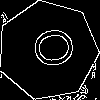O: (23, 25, 76, 72)
